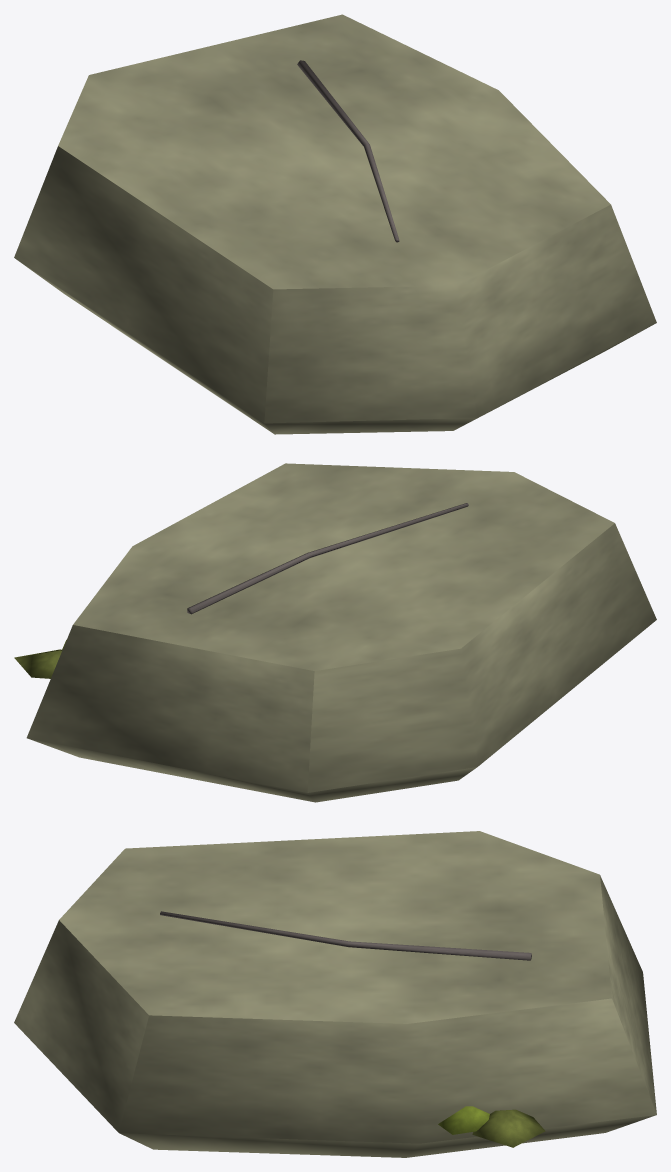
Rendered from ring-descent-ledge-1.fbx.
3 views of the same model, one above another, from view 1: azimuth 30°, elevation 25°; view 2: azimuth 150°, elevation 25°; view 3: azimuth 270°, elevation 25° (orthographic). The views are drawn at different scales.
Visible parts, largest first — view 1: ring-descent-ledge-1__Geometry; view 2: ring-descent-ledge-1__Geometry; view 3: ring-descent-ledge-1__Geometry.
Boxes of the visible parts, x1,y1,x2,y2 form: ring-descent-ledge-1__Geometry: (14, 14, 656, 434); ring-descent-ledge-1__Geometry: (14, 463, 656, 802); ring-descent-ledge-1__Geometry: (14, 831, 656, 1157).
Size of the model in its own units: 0.7698 by 0.2414 by 0.92.
